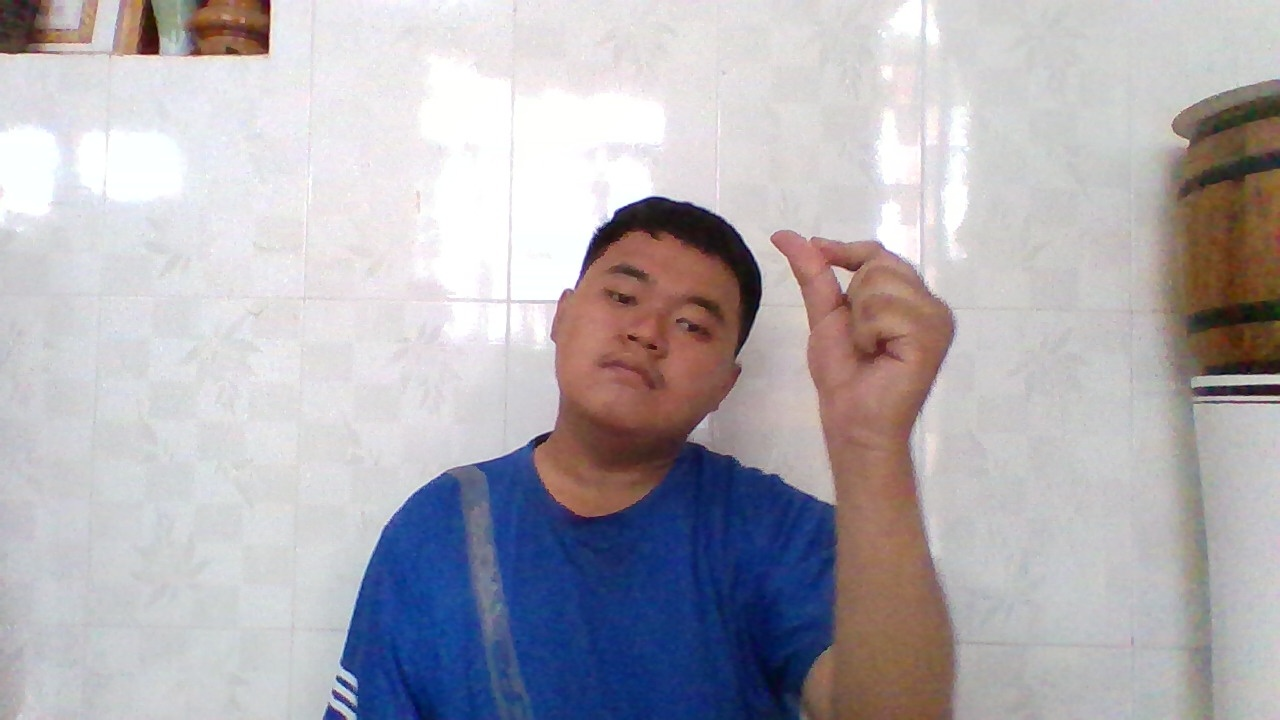S: (773, 223, 955, 442)
